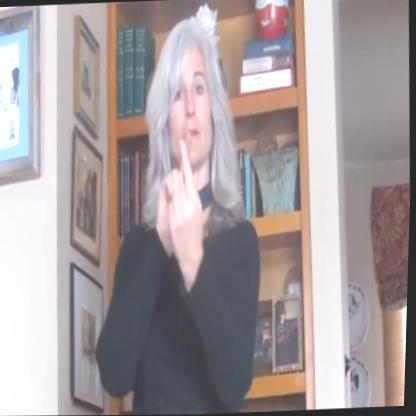NiceToMeetYou: (139, 132, 215, 268)
